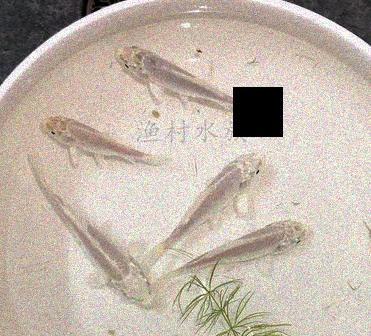fry: (33, 189, 159, 324), (111, 36, 274, 130), (185, 212, 317, 286), (160, 142, 264, 235), (41, 103, 175, 175)
